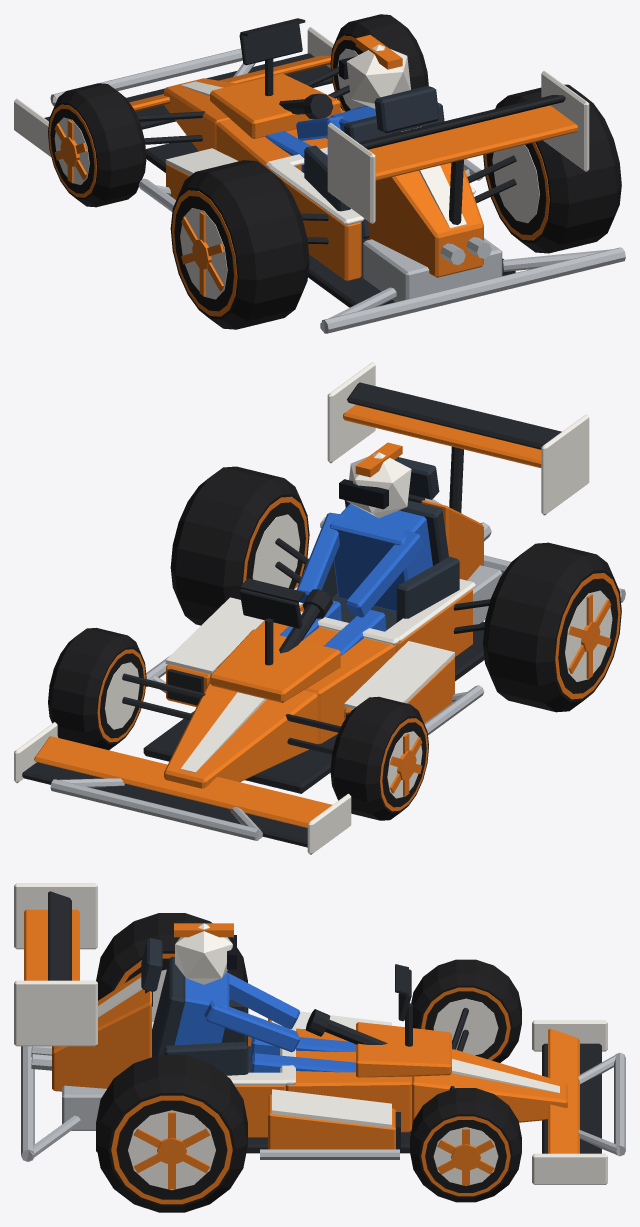
Rendered from kart.glb.
3 views of the same model, one above another, from view 1: azimuth 30°, elevation 25°; view 2: azimuth 150°, elevation 25°; view 3: azimuth 270°, elevation 25° (orthographic). The views are drawn at different scales.
Visible parts, largest first — view 1: Body-Orange, WheelSpin-RL-Tire, Body-Steel, Body-Carbon, Body-Cream, WheelSpin-RR-Tire, WheelSpin-FL-Tire, Body-Seat, WheelSpin-FR-Tire, WheelSpin-RL-Orange, Driver-Cream, WheelSpin-RR-Cream (+6 smaller); view 2: Body-Orange, Body-Carbon, Body-Cream, WheelSpin-RL-Tire, WheelSpin-RR-Tire, Driver-Suit, WheelSpin-FL-Tire, WheelSpin-FR-Tire, Body-Steel, Body-Seat, WheelSpin-RL-Orange, WheelSpin-RR-Cream (+8 smaller); view 3: Body-Orange, Body-Cream, WheelSpin-RR-Tire, Driver-Suit, Body-Carbon, Body-Steel, WheelSpin-FR-Tire, WheelSpin-FL-Tire, Body-Seat, WheelSpin-RR-Orange, WheelSpin-RL-Tire, WheelSpin-RR-Cream (+6 smaller).
Boxes of the visible parts, bbox=[...] form: Body-Orange: bbox=[129, 55, 578, 280]; WheelSpin-RL-Tire: bbox=[170, 160, 309, 329]; Body-Steel: bbox=[50, 48, 625, 333]; Body-Carbon: bbox=[44, 18, 565, 307]; Body-Cream: bbox=[14, 27, 589, 228]; WheelSpin-RR-Tire: bbox=[483, 84, 621, 253]; WheelSpin-FL-Tire: bbox=[48, 83, 146, 207]; Body-Seat: bbox=[304, 86, 444, 238]; WheelSpin-FR-Tire: bbox=[330, 14, 428, 111]; WheelSpin-RL-Orange: bbox=[172, 190, 237, 316]; Driver-Cream: bbox=[346, 44, 410, 108]; WheelSpin-RR-Cream: bbox=[492, 145, 539, 223]; Body-Orange: bbox=[34, 404, 541, 827]; Body-Carbon: bbox=[22, 382, 561, 847]; Body-Cream: bbox=[14, 362, 589, 854]; WheelSpin-RL-Tire: bbox=[483, 542, 621, 712]; WheelSpin-RR-Tire: bbox=[170, 466, 309, 625]; Driver-Suit: bbox=[279, 503, 432, 655]; WheelSpin-FL-Tire: bbox=[330, 696, 428, 820]; WheelSpin-FR-Tire: bbox=[48, 628, 146, 750]; Body-Steel: bbox=[50, 517, 625, 840]; Body-Seat: bbox=[304, 457, 459, 630]; WheelSpin-RL-Orange: bbox=[555, 573, 620, 699]; WheelSpin-RR-Cream: bbox=[252, 514, 300, 587]; Body-Orange: bbox=[24, 909, 579, 1153]; Body-Cream: bbox=[14, 883, 607, 1184]; WheelSpin-RR-Tire: bbox=[96, 1055, 247, 1212]; Driver-Suit: bbox=[174, 972, 355, 1072]; Body-Carbon: bbox=[48, 891, 601, 1153]; Body-Steel: bbox=[21, 1046, 625, 1161]; WheelSpin-FR-Tire: bbox=[410, 1088, 521, 1202]; WheelSpin-FL-Tire: bbox=[411, 959, 521, 1062]; Body-Seat: bbox=[141, 938, 251, 1075]; WheelSpin-RR-Orange: bbox=[111, 1095, 232, 1204]; WheelSpin-RL-Tire: bbox=[96, 913, 247, 1000]; WheelSpin-RR-Cream: bbox=[128, 1110, 215, 1190].
Size of the model in its own units: 2.11 by 1.15 by 3.06.
